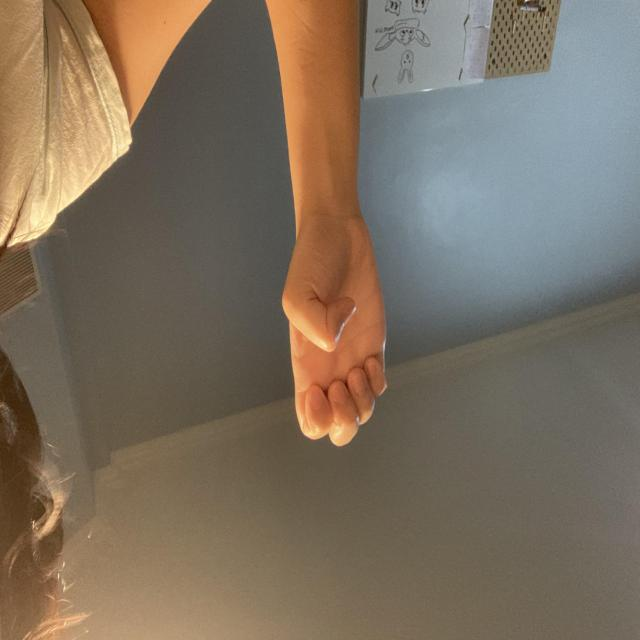E: (252, 193, 358, 432)
